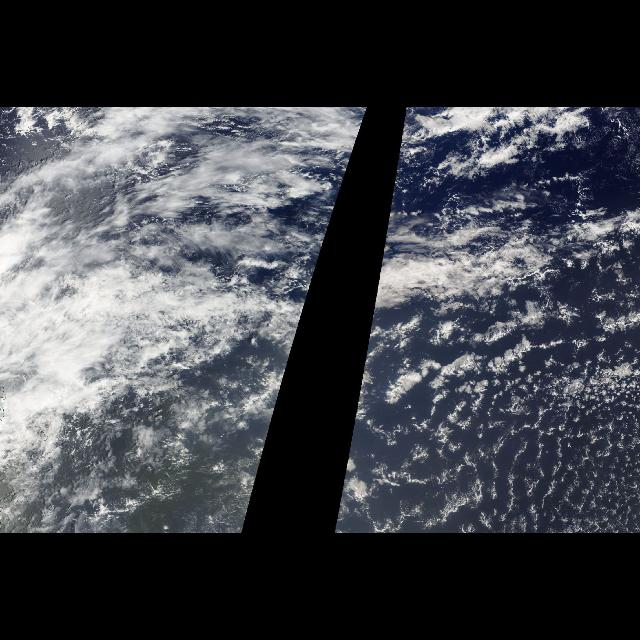Flower: (370, 305, 636, 529)
Gravel: (366, 313, 634, 527)
Sugar: (428, 375, 640, 533)
